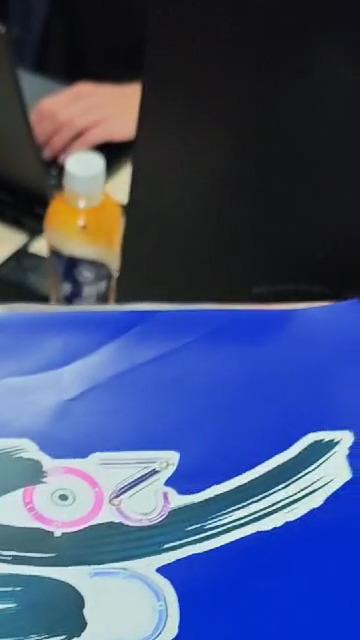B_R1: (0, 414, 349, 640)
